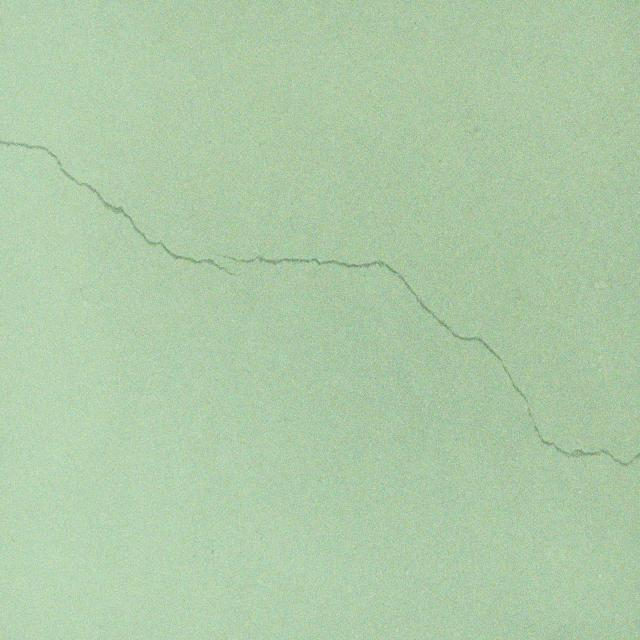crack: (211, 252, 640, 467), (0, 140, 249, 278)
